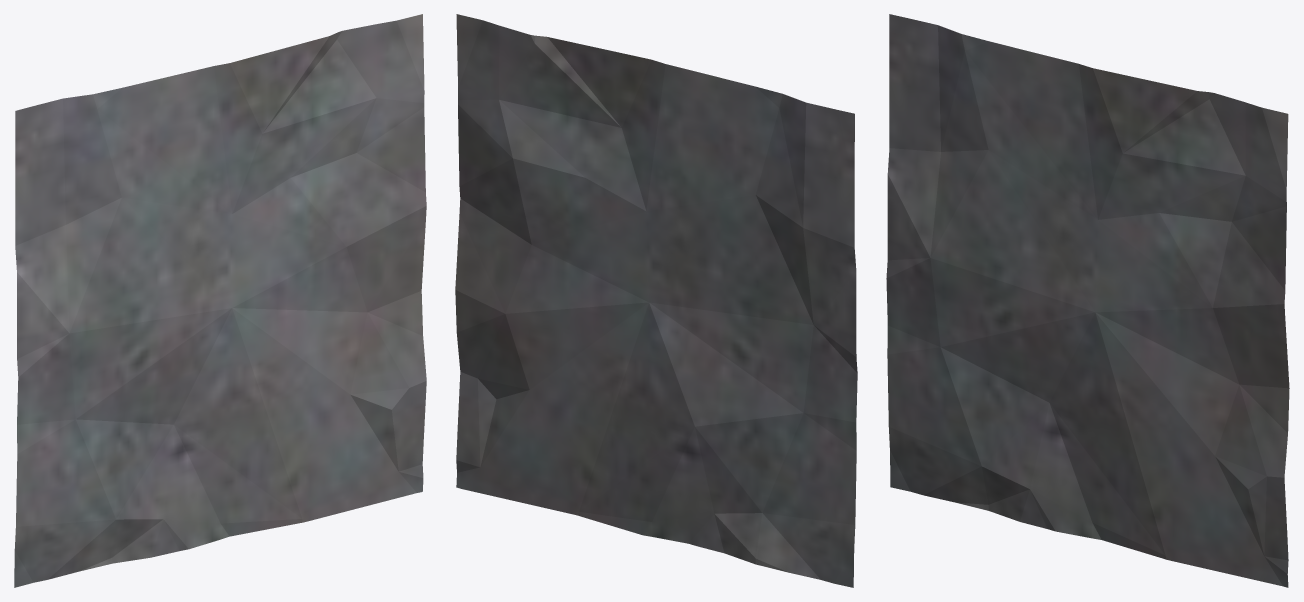
The model's file is Tile_+003_+006_L24_0010100.obj.
The picture shows the model from 3 angles, left to right: view 1: azimuth 30°, elevation 25°; view 2: azimuth 150°, elevation 25°; view 3: azimuth 330°, elevation 25°; orthographic projection.
Size of the model in its own units: 0.9531 by 1.08 by 0.0381.
Materials: 1 (1 with a texture image).
